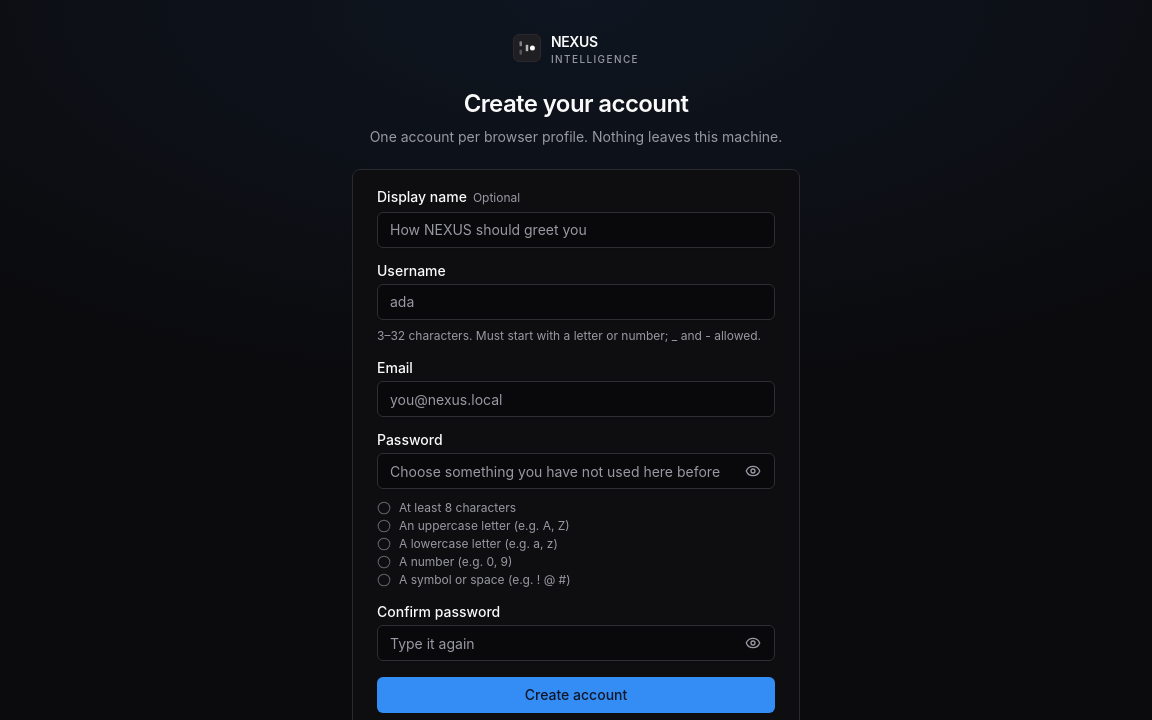
Test: RegisterPage › asks for the first missing field before it will submit
The image size is (1152, 720).
Click the button "Create account" at x=576, y=695, box [377,677,775,713]
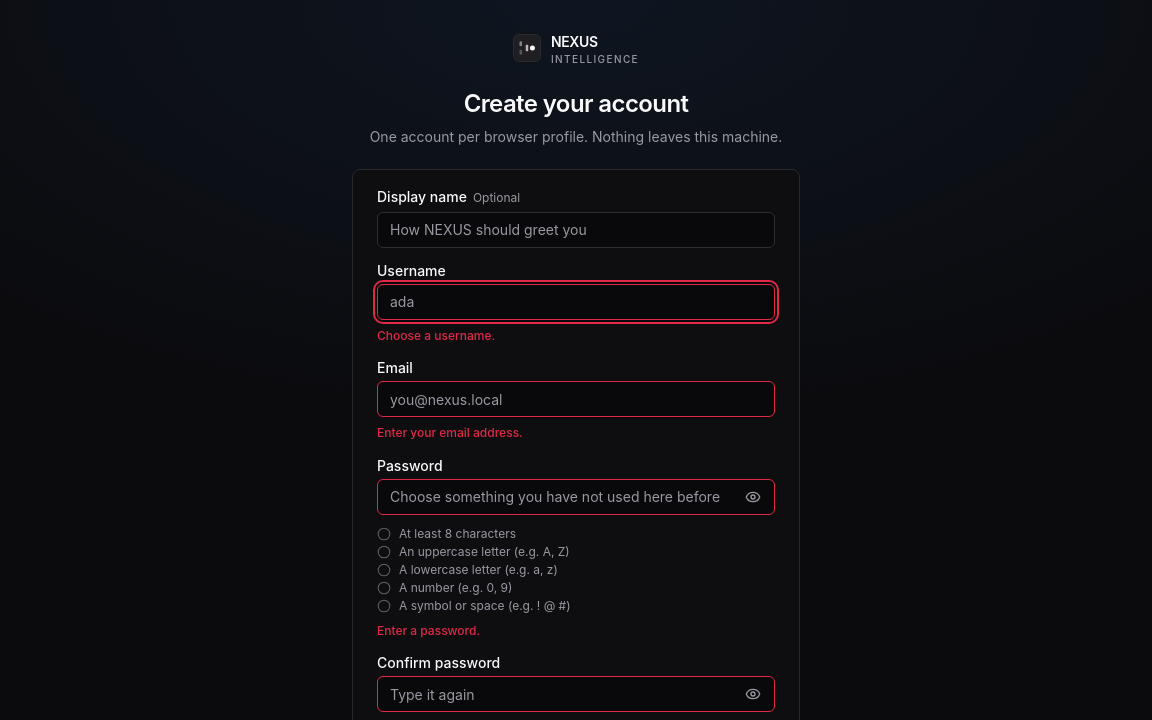
Expected: the text "Choose a username." is shown, [377,328,495,343]
Expected: the text "Enter your email address." is shown, [377,425,523,440]
